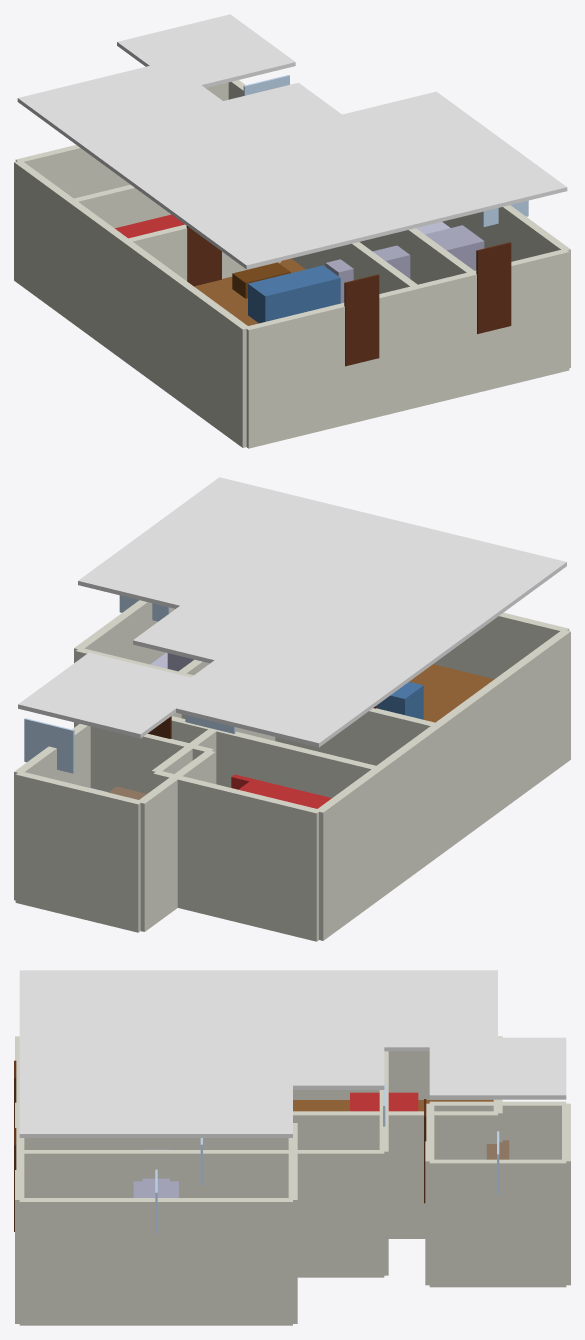
The model's file is realistic_house_1751799265.obj.
The picture shows the model from 3 angles, top to bottom: view 1: azimuth 30°, elevation 25°; view 2: azimuth 150°, elevation 25°; view 3: azimuth 270°, elevation 25°; orthographic projection. The views are drawn at different scales.
Visible parts, largest first — view 1: Living_Room_ceiling, Living_Room_wall_0, Living_Room_wall_3, Kitchen_ceiling, Bedroom_wall_3, Kitchen_wall_0, Bedroom_ceiling, Bathroom_ceiling, living_room_sofa, Kitchen_wall_1, Bedroom_wall_2, Living_Room_door (+11 smaller); view 2: Living_Room_ceiling, Living_Room_wall_3, Bedroom_wall_2, Kitchen_ceiling, Bathroom_wall_2, Bedroom_ceiling, Bedroom_wall_3, Bathroom_ceiling, Living_Room_wall_2, Bathroom_wall_3, Bathroom_wall_0, Living_Room_wall_0 (+8 smaller); view 3: Kitchen_wall_1, Living_Room_ceiling, Living_Room_wall_1, Kitchen_ceiling, Bathroom_wall_1, Bedroom_ceiling, Bedroom_wall_1, Bathroom_ceiling, Bathroom_wall_3, Kitchen_wall_3, Bedroom_wall_3, Living_Room_wall_2 (+9 smaller).
Part boxes in pixels (x1=…): Living_Room_ceiling: x1=72, y1=82, x2=472, y2=269; Living_Room_wall_0: x1=245, y1=272, x2=474, y2=448; Living_Room_wall_3: x1=68, y1=200, x2=249, y2=447; Kitchen_ceiling: x1=286, y1=91, x2=567, y2=226; Bedroom_wall_3: x1=14, y1=160, x2=129, y2=359; Kitchen_wall_0: x1=418, y1=249, x2=569, y2=404; Bedroom_ceiling: x1=17, y1=61, x2=232, y2=180; Bathroom_ceiling: x1=117, y1=14, x2=295, y2=89; living_room_sofa: x1=248, y1=265, x2=340, y2=323; Kitchen_wall_1: x1=442, y1=205, x2=570, y2=368; Bedroom_wall_2: x1=15, y1=145, x2=129, y2=198; Living_Room_door: x1=344, y1=274, x2=379, y2=366; Living_Room_ceiling: x1=133, y1=502, x2=566, y2=699; Living_Room_wall_3: x1=375, y1=630, x2=570, y2=897; Bedroom_wall_2: x1=153, y1=770, x2=320, y2=941; Kitchen_ceiling: x1=78, y1=477, x2=382, y2=608; Bathroom_wall_2: x1=15, y1=772, x2=142, y2=932; Bedroom_ceiling: x1=156, y1=630, x2=436, y2=747; Bedroom_wall_3: x1=317, y1=725, x2=440, y2=940; Bathroom_ceiling: x1=18, y1=652, x2=190, y2=738; Living_Room_wall_2: x1=171, y1=716, x2=379, y2=797; Bathroom_wall_3: x1=137, y1=750, x2=215, y2=931; Bathroom_wall_0: x1=90, y1=726, x2=213, y2=793; Living_Room_wall_0: x1=433, y1=612, x2=569, y2=679; Kitchen_wall_1: x1=19, y1=1198, x2=292, y2=1325; Living_Room_ceiling: x1=19, y1=970, x2=384, y2=1089; Living_Room_wall_1: x1=20, y1=1150, x2=384, y2=1277; Kitchen_ceiling: x1=19, y1=1057, x2=292, y2=1137; Bathroom_wall_1: x1=429, y1=1159, x2=566, y2=1287; Bedroom_ceiling: x1=270, y1=970, x2=497, y2=1051; Bedroom_wall_1: x1=293, y1=1111, x2=497, y2=1238; Bathroom_ceiling: x1=429, y1=1037, x2=566, y2=1099; Bathroom_wall_3: x1=429, y1=1101, x2=566, y2=1159; Kitchen_wall_3: x1=24, y1=1138, x2=288, y2=1149; Bedroom_wall_3: x1=293, y1=1051, x2=493, y2=1099; Living_Room_wall_2: x1=379, y1=1051, x2=388, y2=1275.
Size of the model in its own units: 9.3 by 4.6 by 12.23.
